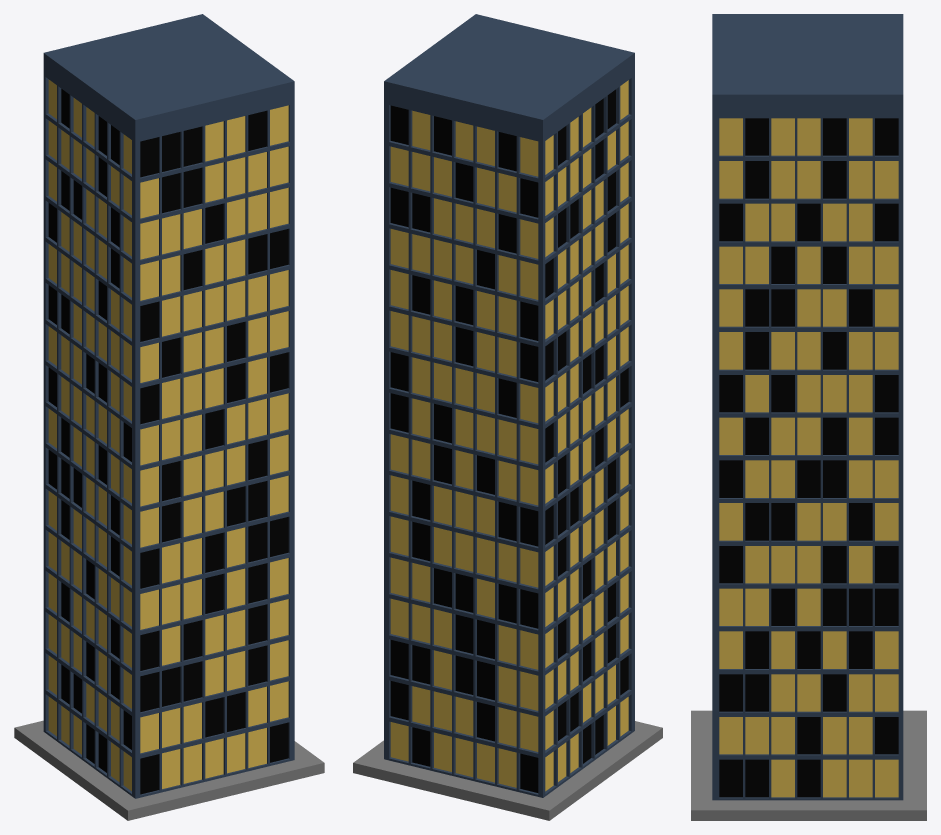
The model's file is ShopTier4.fbx.
The picture shows the model from 3 angles, left to right: view 1: azimuth 30°, elevation 25°; view 2: azimuth 150°, elevation 25°; view 3: azimuth 270°, elevation 25°; orthographic projection. The views are drawn at different scales.
Visible parts, largest first — view 1: Cube.016; view 2: Cube.016; view 3: Cube.016.
Part boxes in pixels (left/top/right/bottom): Cube.016: left=14, top=14, right=324, bottom=820; Cube.016: left=353, top=14, right=662, bottom=820; Cube.016: left=691, top=14, right=926, bottom=820.
Bounding box in the file's own units: 2000 × 6700 × 2000.
